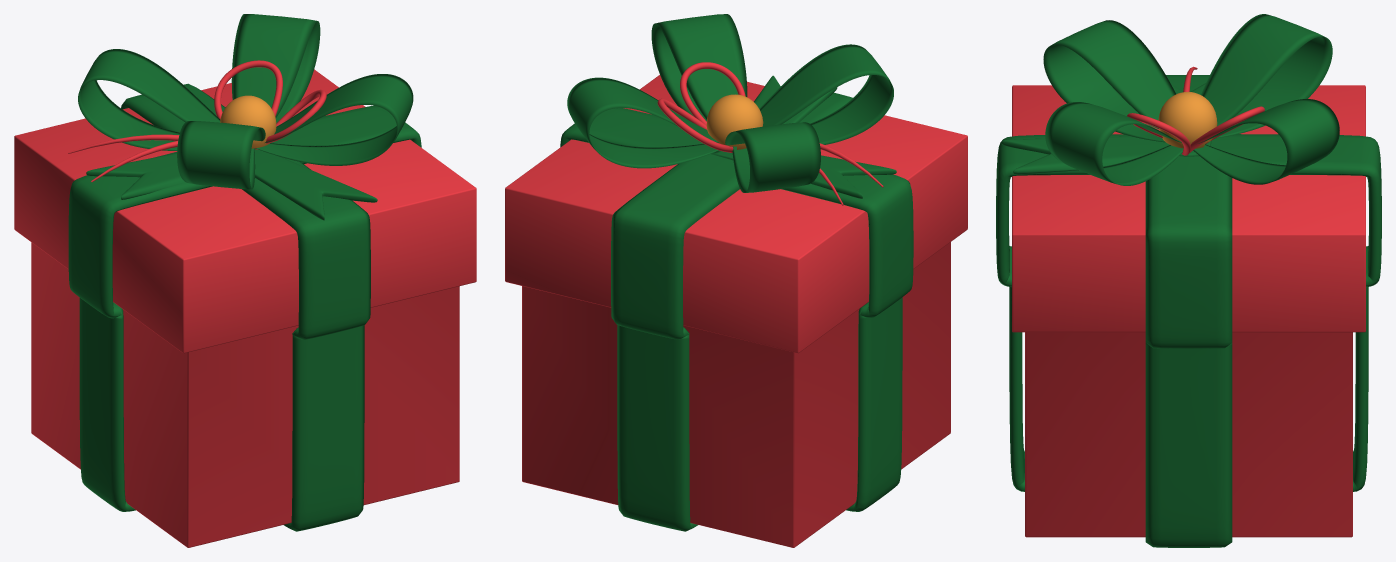
The model's file is Christmas_Presents.fbx.
3 renders of one model, left to right at view 1: azimuth 30°, elevation 25°; view 2: azimuth 150°, elevation 25°; view 3: azimuth 270°, elevation 25°, orthographic. The views are drawn at different scales.
Visible parts, largest first — view 1: Cube, loopcut, NurbsPath, Plane.001, NurbsPath.001, Plane, Sphere; view 2: Cube, loopcut, NurbsPath, NurbsPath.001, Sphere, Plane, Plane.001; view 3: Cube, loopcut, NurbsPath, Plane.001, Sphere, NurbsPath.001.
Part boxes in pixels (box(x1,y1,x2,y2)): Cube: box(14, 69, 476, 547); loopcut: box(68, 83, 421, 531); NurbsPath: box(78, 14, 413, 189); Plane.001: box(254, 149, 377, 220); NurbsPath.001: box(68, 60, 326, 182); Plane: box(86, 148, 254, 199); Sphere: box(220, 95, 276, 148); Cube: box(505, 75, 967, 547); loopcut: box(560, 92, 913, 531); NurbsPath: box(567, 14, 893, 192); NurbsPath.001: box(657, 62, 883, 205); Sphere: box(706, 94, 763, 149); Plane: box(711, 150, 896, 198); Plane.001: box(754, 75, 837, 124); Cube: box(1012, 85, 1365, 537); loopcut: box(996, 75, 1381, 547); NurbsPath: box(1043, 14, 1339, 185); Plane.001: box(1001, 136, 1181, 174); Sphere: box(1158, 92, 1217, 148); NurbsPath.001: box(1127, 66, 1264, 155).
Size of what is drawn, in the model's own units: 235 by 276 by 235.
